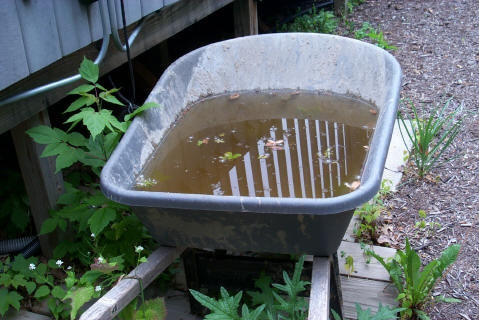container: (86, 23, 435, 277)
water: (125, 70, 385, 201)
wheelbarrow: (84, 21, 437, 320)
